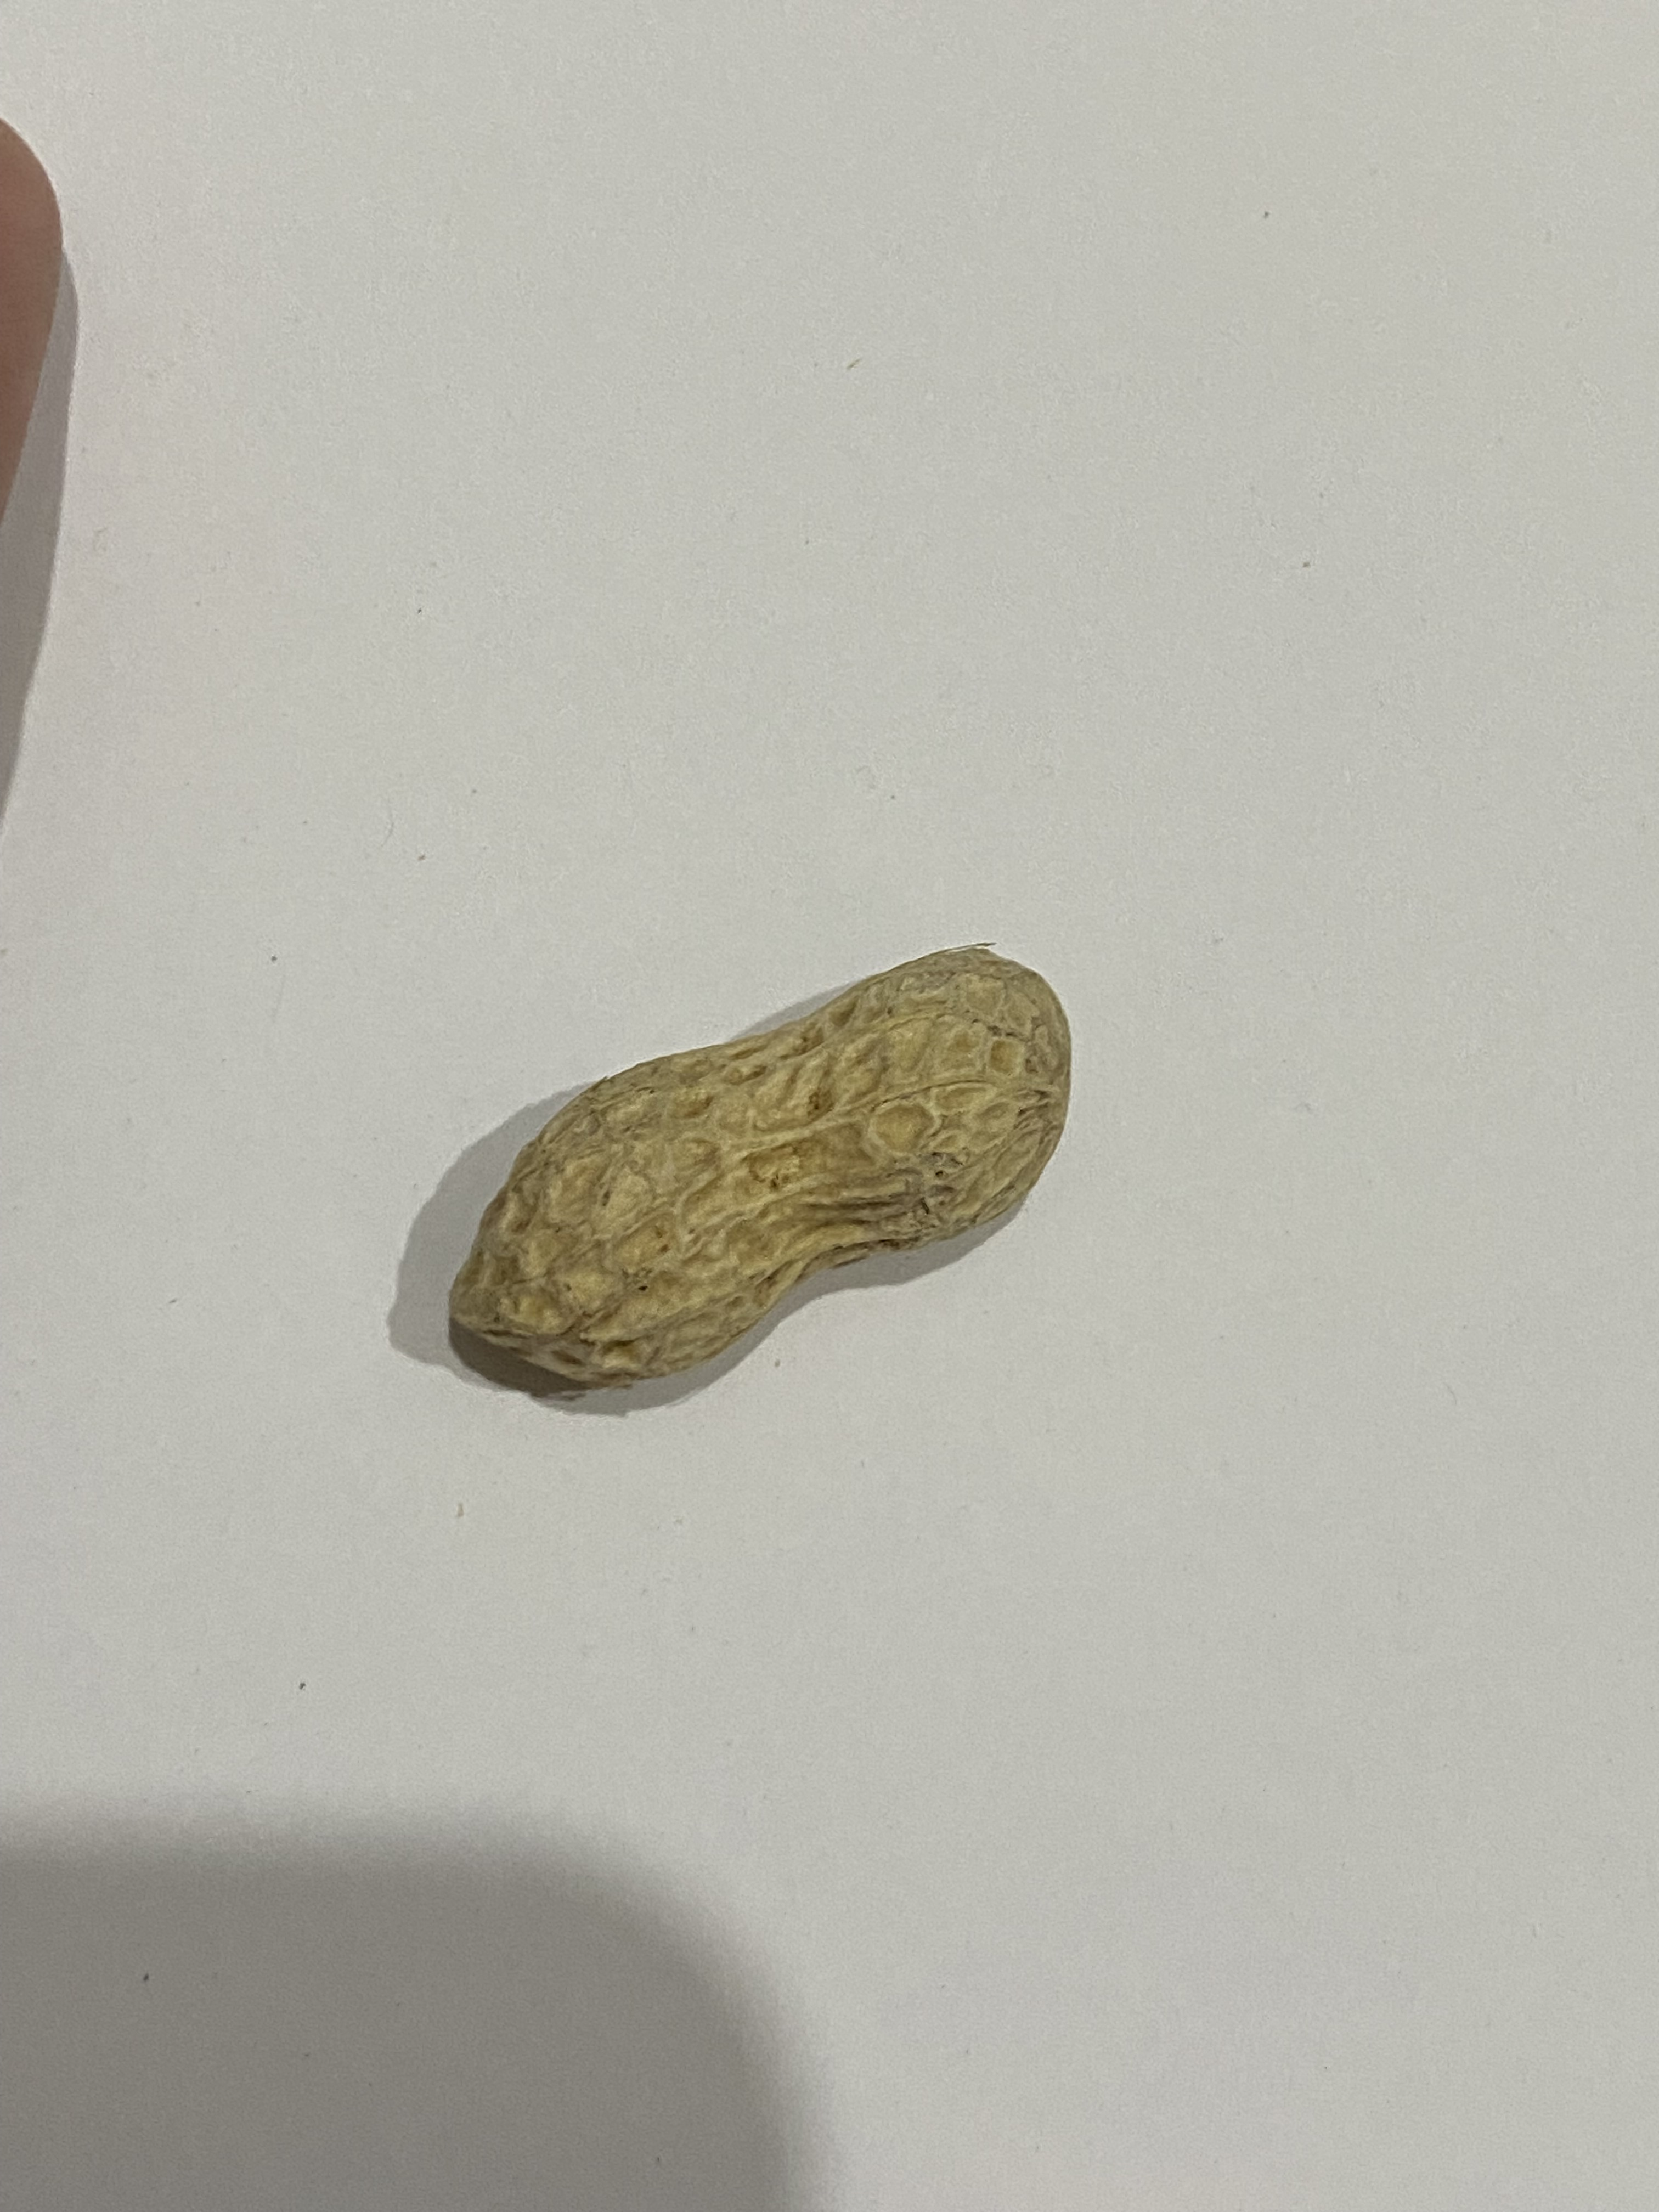kacang2: (437, 921, 1094, 1397)
